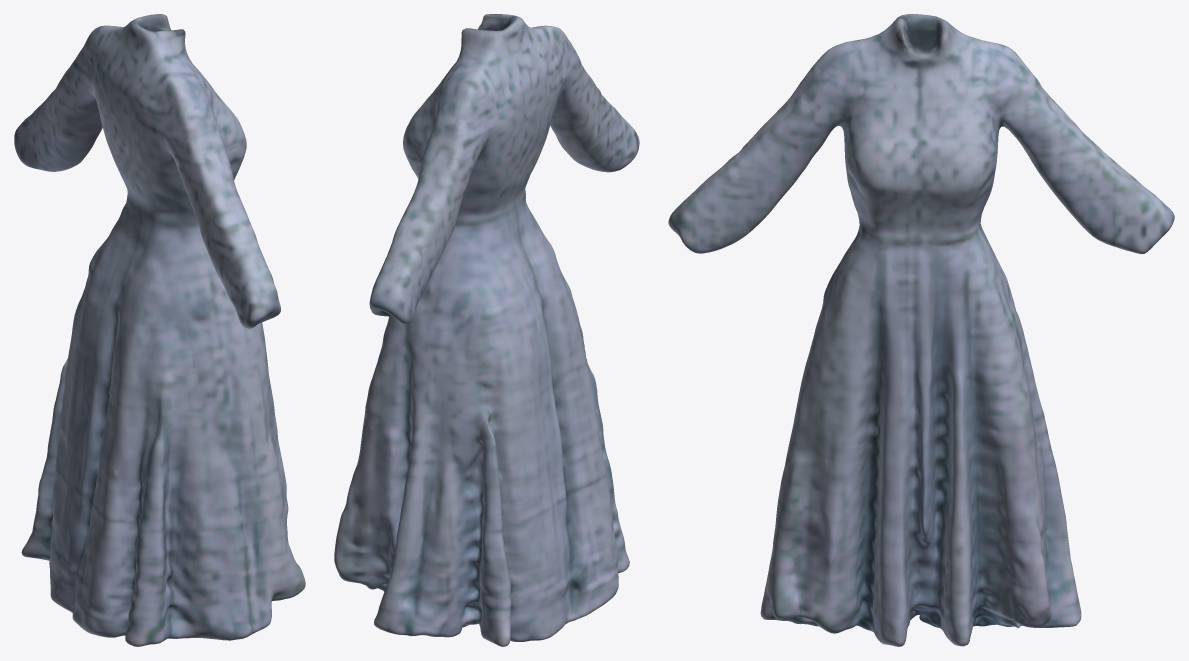
File: b4eaa7ba78f1_064cda02756f_nice_dress__3d_asse.glb
The picture shows the model from 3 angles, left to right: view 1: azimuth 30°, elevation 25°; view 2: azimuth 150°, elevation 25°; view 3: azimuth 270°, elevation 25°; orthographic projection. The views are drawn at different scales.
Visible parts, largest first — view 1: high_poly; view 2: high_poly; view 3: high_poly.
Boxes of the visible parts, x1,y1,x2,y2 form: high_poly: [14, 14, 305, 646]; high_poly: [334, 14, 639, 646]; high_poly: [668, 14, 1174, 646].
Size of the model in its own units: 0.3739 by 1 by 0.7648.
1 material, 1 textured.
